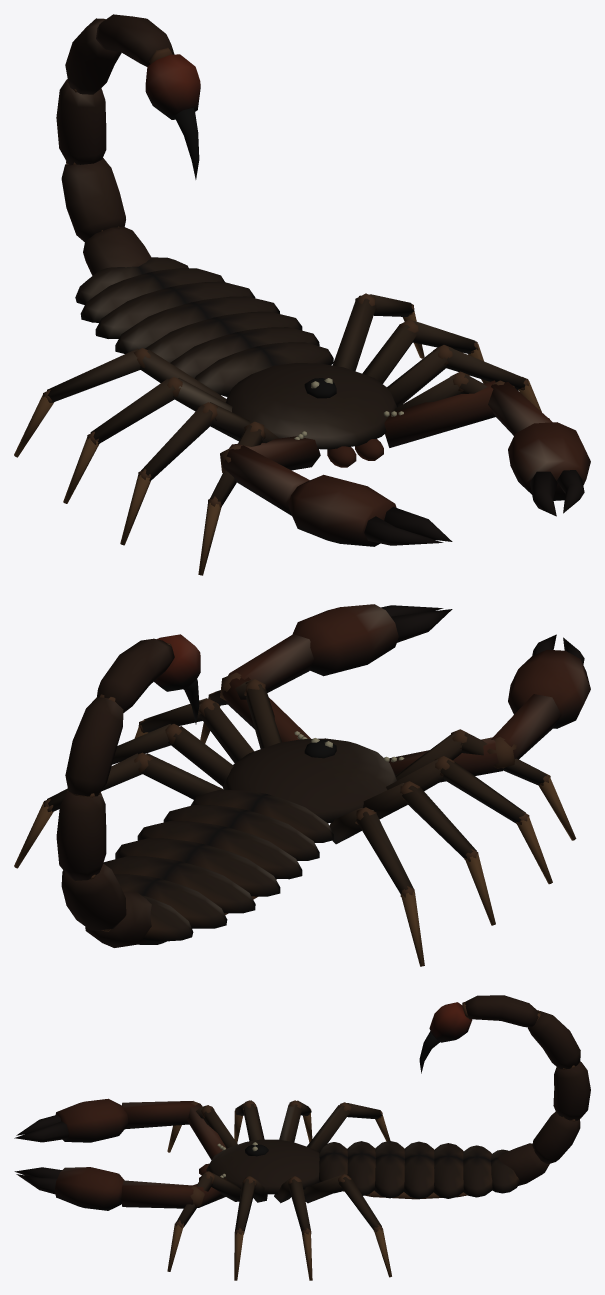
Rendered from Pulmonoscorpius.fbx.
3 views of the same model, one above another, from view 1: azimuth 30°, elevation 25°; view 2: azimuth 150°, elevation 25°; view 3: azimuth 270°, elevation 25° (orthographic). The views are drawn at different scales.
Parts seen in each view (by area): view 1: Pulmonoscorpius; view 2: Pulmonoscorpius; view 3: Pulmonoscorpius.
Boxes of the visible parts, x1,y1,x2,y2 form: Pulmonoscorpius: [14, 14, 590, 575]; Pulmonoscorpius: [14, 604, 590, 966]; Pulmonoscorpius: [14, 995, 590, 1280].
Bounding box in the file's own units: 0.787 × 0.5704 × 1.38.
